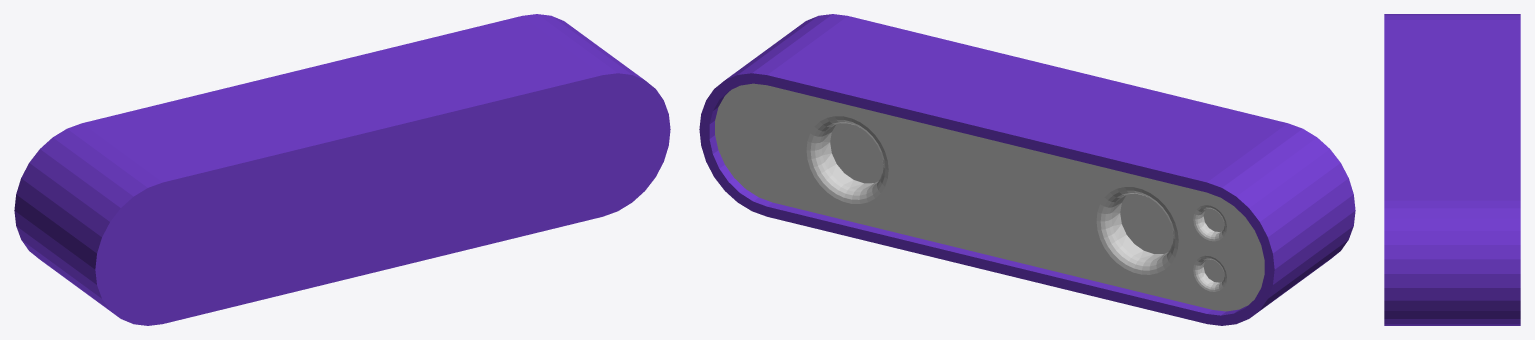
File: structure camera.dae
3 views of the same model, side by side, from view 1: azimuth 30°, elevation 25°; view 2: azimuth 150°, elevation 25°; view 3: azimuth 270°, elevation 25° (orthographic). The views are drawn at different scales.
Parts seen in each view (by area): view 1: Structure_Camera_-_face_structure-1-1_002; view 2: Structure_Camera_-_face_structure-1-1_002, Structure_Camera_-_face_structure-1-1; view 3: Structure_Camera_-_face_structure-1-1_002.
Part boxes in pixels (<box>): Structure_Camera_-_face_structure-1-1_002: <box>14,14,670,325</box>; Structure_Camera_-_face_structure-1-1_002: <box>699,14,1355,325</box>; Structure_Camera_-_face_structure-1-1: <box>715,83,1264,311</box>; Structure_Camera_-_face_structure-1-1_002: <box>1384,14,1520,325</box>.
Bounding box in the file's own units: 0.119 × 0.029 × 0.028.
